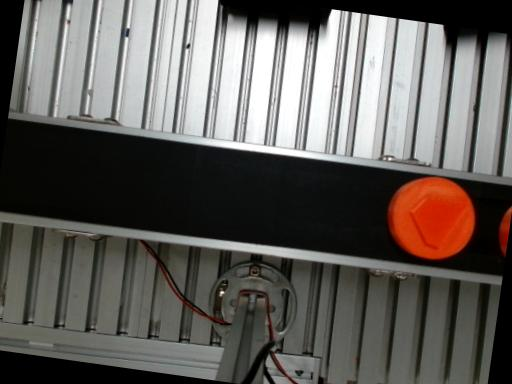Not_Square: (411, 192, 471, 251)
Orange_Waper: (387, 177, 475, 258), (499, 206, 512, 255)
